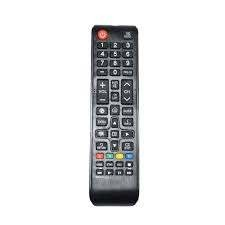remote control: (89, 17, 142, 210)
